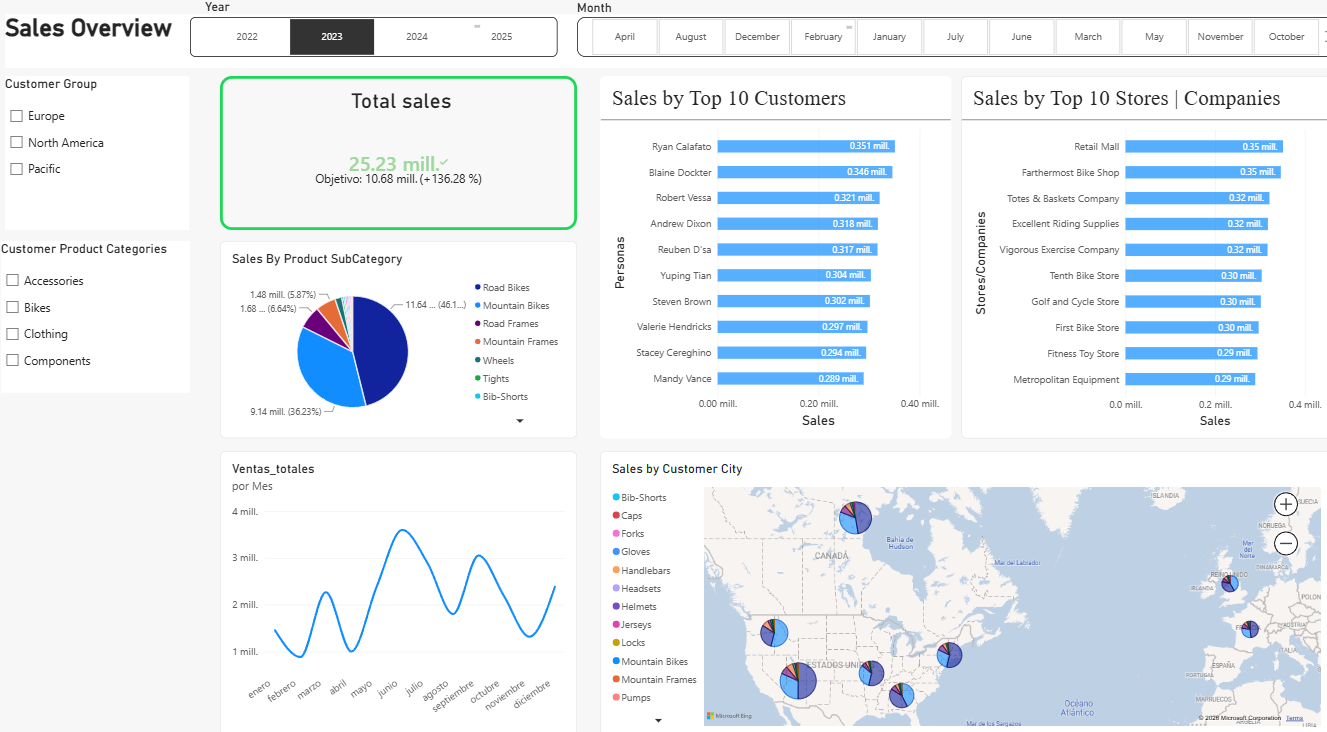

The dashboard page shown, as its layout file describes it:
{"tool":"powerbi","page":{"name":"Resumen Ejecutivo","canvas":[1920,1080],"ordinal":0},"visuals":[{"type":"clusteredBarChart","title":"Sales by Top 10 Customers","fields":{"Category":["DimCliente.NombrePersona"],"Y":["Sum(FactVentas.LineTotal)"]},"box":[861.5,116.9,501.5,518.5],"z":0},{"type":"clusteredBarChart","title":"Sales by Top 10 Stores | Companies","fields":{"Category":["DimCliente.StoreName"],"Y":["FactVentas.Ventas_totales"]},"box":[1376.9,116.9,532.3,518.5],"z":1000},{"type":"textbox","title":"Sales Overview","box":[11.7,28.3,1908.3,76.7],"z":2000},{"type":"slicer","title":"Year","fields":{"Values":["DimFecha.Anio"]},"box":[275,33.3,525,56.7],"z":3000},{"type":"textbox","title":"Year","box":[296.7,7.8,393.3,41.1],"z":4000},{"type":"slicer","fields":{"Values":["DimFecha.NombreMes"]},"box":[828.3,33.3,1080,56.7],"z":5000},{"type":"textbox","title":"Month","box":[828.3,8.3,393.3,41.1],"z":6000},{"type":"pieChart","title":"Sales By Product SubCategory","fields":{"Category":["DimProducto.NombreSubCategoria"],"Y":["FactVentas.Ventas_totales"]},"box":[318.3,353.3,510,281.7],"z":7000},{"type":"lineChart","fields":{"Category":["DimFecha.Fecha.Variación.Jerarquía de fechas.Mes"],"Y":["FactVentas.Ventas_totales"]},"box":[318.3,653.3,510,410],"z":8000},{"type":"kpi","title":"Total sales","fields":{"Goal":["FactVentas.Ventas_Ano_Anterior"],"Indicator":["FactVentas.Ventas_totales"],"TrendLine":["DimFecha.Fecha.Variación.Jerarquía de fechas.Año"]},"box":[318.3,116.7,510,220],"z":9000},{"type":"slicer","title":"Customer Group","fields":{"Values":["DimTerritorio.Group"]},"box":[11.7,116.7,263.3,220],"z":10000},{"type":"map","title":"Sales by Customer City","fields":{"Category":["DimTerritorio.UbicacionMapa"],"Series":["DimProducto.NombreSubCategoria"],"Size":["FactVentas.Ventas_totales"]},"box":[861.7,653.3,1046.7,410],"z":11000},{"type":"slicer","title":"Customer Product Categories","fields":{"Values":["DimProducto.NombreCategoria"]},"box":[5,353.3,270,216.7],"z":12000}]}

Visuals, with their boxes in screenshot pixels (x1, y1, x2, y2), scaled from the page's 1920x1080 canvas onto the 1327x732 screenshot:
"Sales by Top 10 Customers" clusteredBarChart: l=595, t=79, r=942, b=431
"Sales by Top 10 Stores | Companies" clusteredBarChart: l=952, t=79, r=1320, b=431
"Sales Overview" textbox: l=8, t=19, r=1326, b=71
"Year" slicer: l=190, t=23, r=553, b=61
"Year" textbox: l=205, t=5, r=477, b=33
slicer - DimFecha.NombreMes: l=572, t=23, r=1319, b=61
"Month" textbox: l=572, t=6, r=844, b=33
"Sales By Product SubCategory" pieChart: l=220, t=239, r=572, b=430
lineChart - DimFecha.Fecha.Variación.Jerarquía de fechas.Mes x FactVentas.Ventas_totales: l=220, t=443, r=572, b=721
"Total sales" kpi: l=220, t=79, r=572, b=228
"Customer Group" slicer: l=8, t=79, r=190, b=228
"Sales by Customer City" map: l=596, t=443, r=1319, b=721
"Customer Product Categories" slicer: l=3, t=239, r=190, b=386
